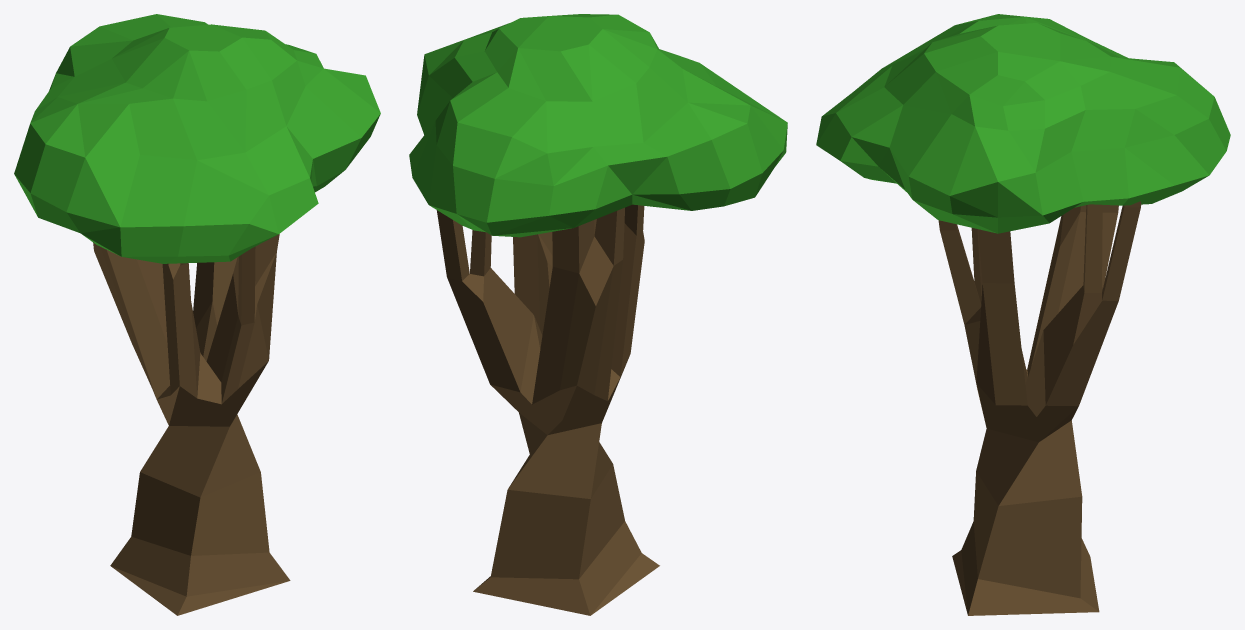
The model's file is Tree3.glb.
3 views of the same model, side by side, from view 1: azimuth 30°, elevation 25°; view 2: azimuth 150°, elevation 25°; view 3: azimuth 270°, elevation 25° (orthographic).
Parts seen in each view (by area): view 1: Cube; view 2: Cube; view 3: Cube.
Part boxes in pixels (box(x1,y1,x2,y2)): Cube: box(14, 14, 380, 615); Cube: box(409, 14, 787, 615); Cube: box(816, 14, 1230, 615).
Size of the model in its own units: 4.59 by 7.07 by 4.85.
